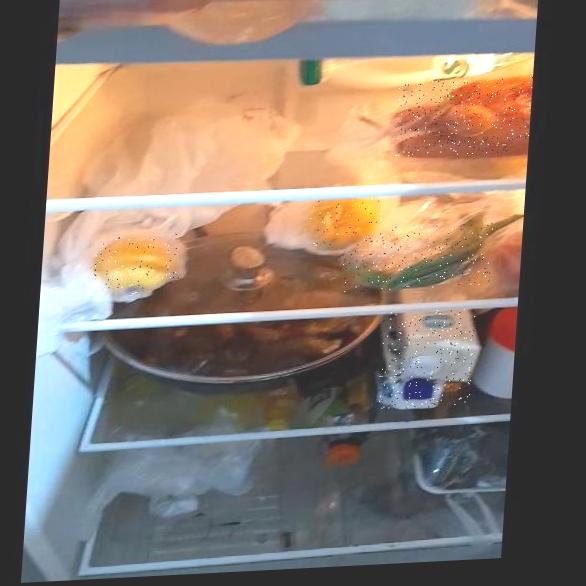carrot: (394, 76, 533, 158)
green chilies: (340, 222, 494, 292)
lemon: (93, 234, 184, 291), (309, 196, 384, 247)
milk: (377, 308, 476, 410)
